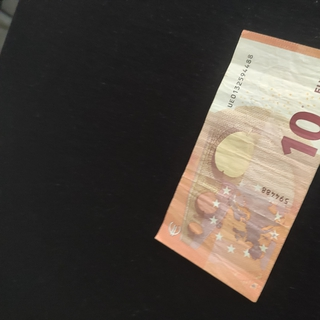10EUROBack: (153, 28, 320, 303)
